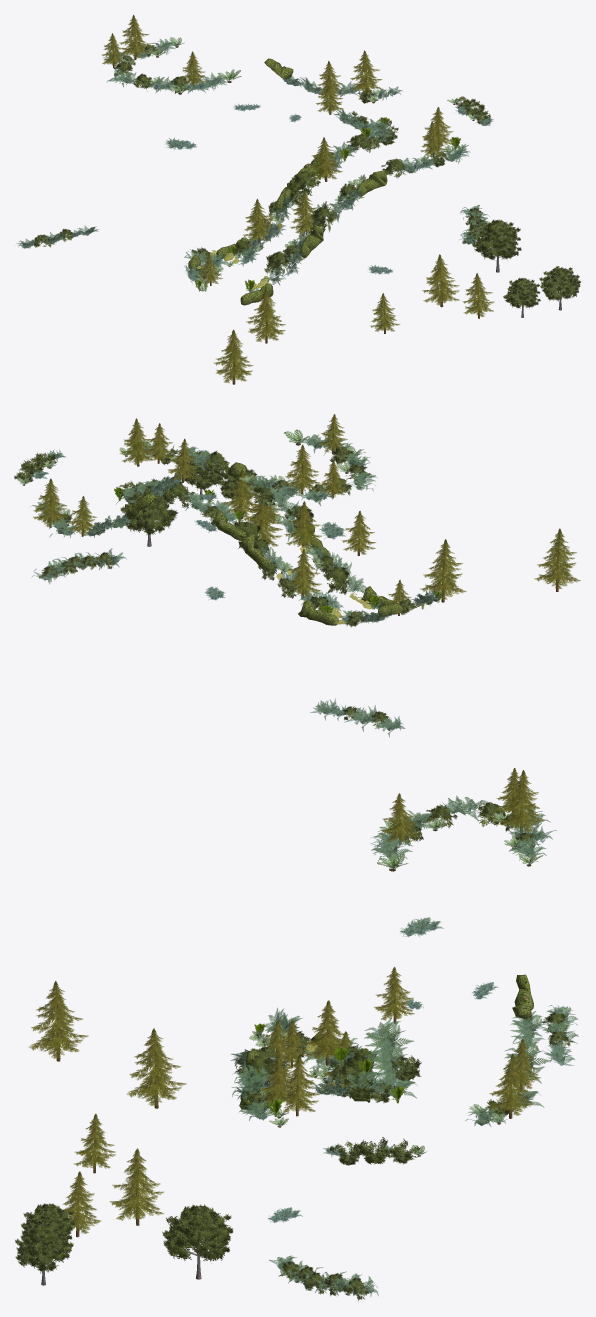
File: ubs_ext_bushes.gltf
3 renders of one model, top to bottom at view 1: azimuth 30°, elevation 25°; view 2: azimuth 150°, elevation 25°; view 3: azimuth 270°, elevation 25°, orthographic. The views are drawn at different scales.
Parts seen in each view (by area): view 1: Model_Tree.002, Model_Tree.009, Model_tree.003, Model_tree.005, Model_tree.008, Model_Tree.001, Model_tree.013, Model_tree.002, Model_tree.016, Model_tree.010, Model_tree.011, Model_tree.012 (+4 smaller); view 2: Model_tree.003, Model_tree.005, Model_Tree.002, Model_tree.016, Model_tree.012, Model_tree.011, Model_tree.013, Model_tree.010, Model_tree.014, Model_tree.008, Model_Tree.009, Model_tree.001 (+12 smaller); view 3: Model_Tree.002, Model_tree.005, Model_tree.003, Model_Tree.009, Model_tree.008, Model_tree.011, Model_tree.016, Model_tree.013, Model_tree.014, Model_tree.002, Model_tree.001, Model_Indoor_plant.089 (+9 smaller).
Boxes of the visible parts, x1,y1,x2,y2 form: Model_Tree.002: (472,219,521,272); Model_Tree.009: (539,266,580,310); Model_tree.003: (214,329,253,384); Model_tree.005: (246,288,285,343); Model_tree.008: (422,254,459,307); Model_Tree.001: (503,277,540,317); Model_tree.013: (309,137,342,181); Model_tree.002: (462,273,494,318); Model_tree.016: (119,15,151,59); Model_tree.010: (243,198,275,243); Model_tree.011: (350,50,381,93); Model_tree.012: (290,191,317,234); Model_tree.003: (534,528,580,591); Model_tree.005: (420,539,466,602); Model_Tree.002: (120,494,178,546); Model_tree.016: (284,444,320,494); Model_tree.012: (284,501,321,549); Model_tree.011: (33,478,68,527); Model_tree.013: (222,469,260,518); Model_tree.010: (288,549,321,598); Model_tree.014: (120,418,154,466); Model_tree.008: (243,496,282,546); Model_Tree.009: (179,450,223,499); Model_tree.001: (341,510,376,555); Model_Tree.002: (162,1204,233,1279); Model_tree.005: (127,1028,186,1108); Model_tree.003: (29,981,88,1061); Model_Tree.009: (15,1223,73,1285); Model_tree.008: (109,1148,163,1225); Model_tree.011: (488,1054,533,1118); Model_tree.016: (499,770,544,833); Model_tree.013: (304,1000,350,1065); Model_tree.014: (277,1055,319,1116); Model_tree.002: (62,1171,101,1237); Model_tree.001: (74,1114,115,1173); Model_Indoor_plant.089: (364,1017,413,1067).
Size of the model in its own units: 73.65 by 41.14 by 62.79.
Materials: 9 (8 with a texture image).
